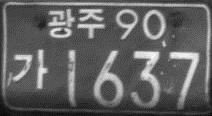0: (141, 7, 167, 41)
1: (65, 47, 80, 106)
3: (129, 50, 161, 110)
6: (93, 49, 124, 109)
7: (168, 50, 200, 112)
9: (115, 7, 138, 43)
가: (11, 47, 48, 89)
광주_O: (47, 7, 106, 41)
